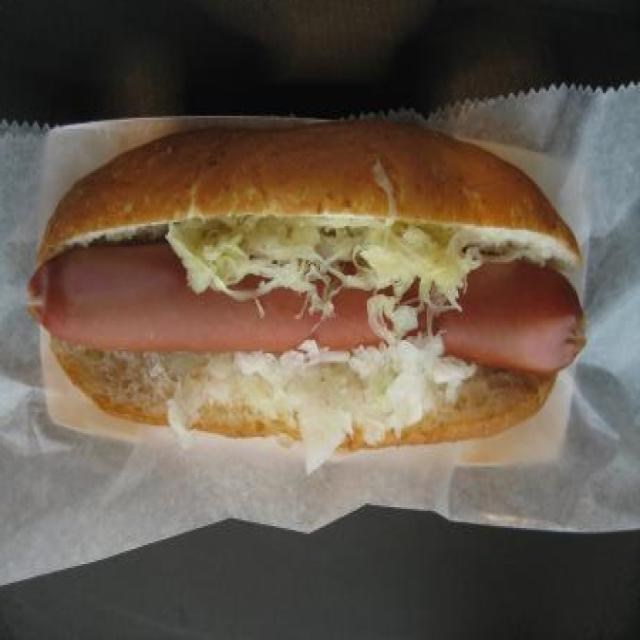Hot Dog: (26, 107, 594, 475)
